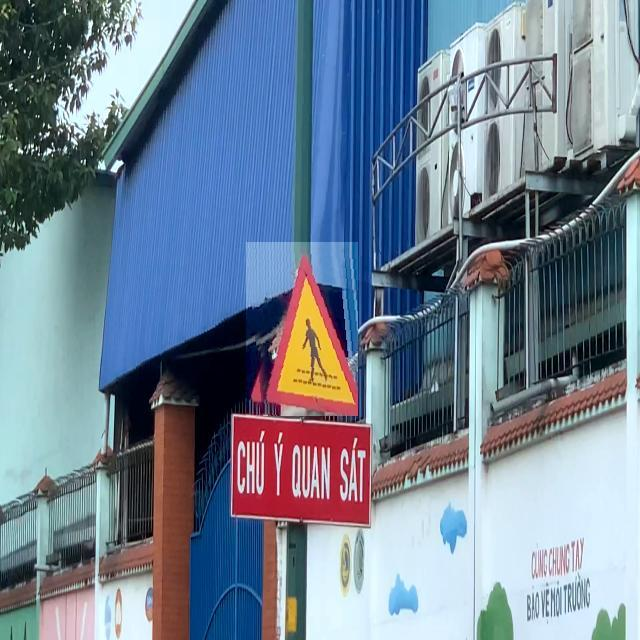W-224: (246, 242, 358, 416)
